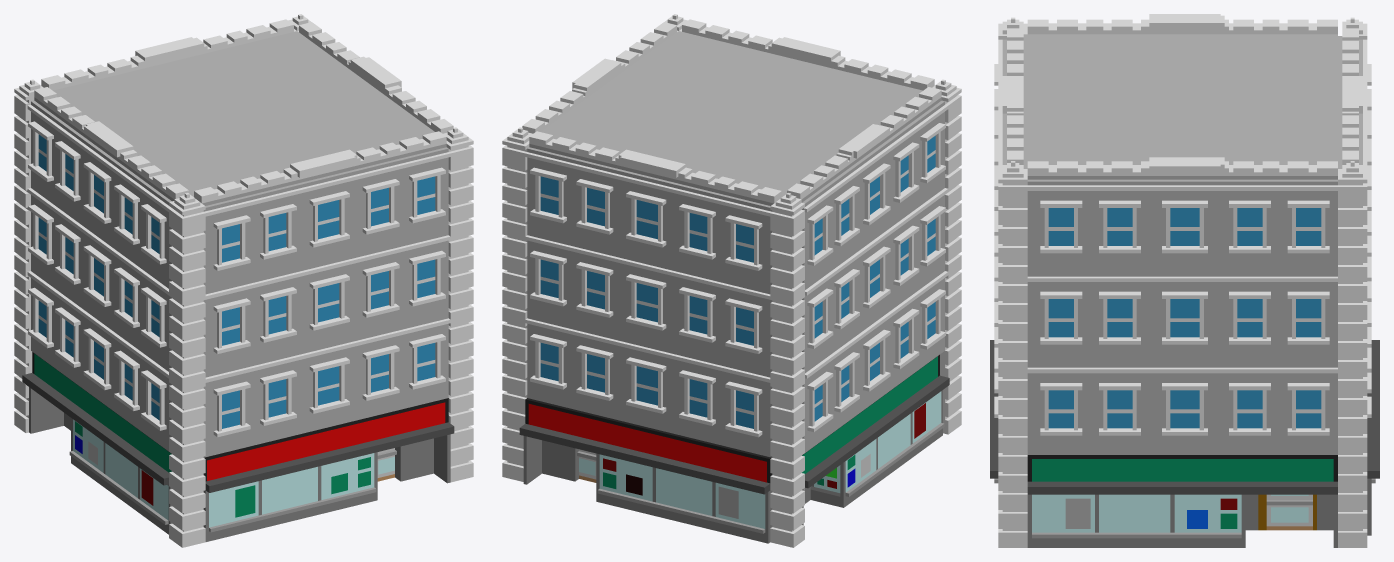
File: obj_store02_White.obj
3 views of the same model, side by side, from view 1: azimuth 30°, elevation 25°; view 2: azimuth 150°, elevation 25°; view 3: azimuth 270°, elevation 25° (orthographic). The views are drawn at different scales.
Bounding box in the file's own units: 9.1 × 10 × 9.3.
1 material, 1 textured.
